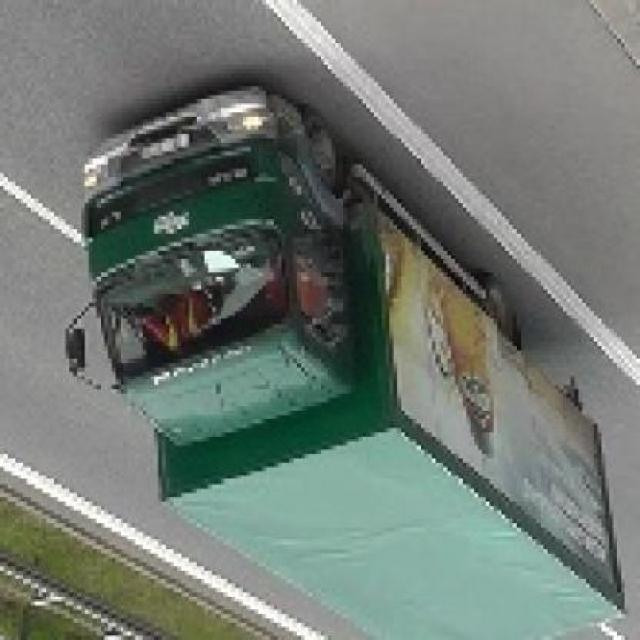truck: (66, 87, 622, 640)
